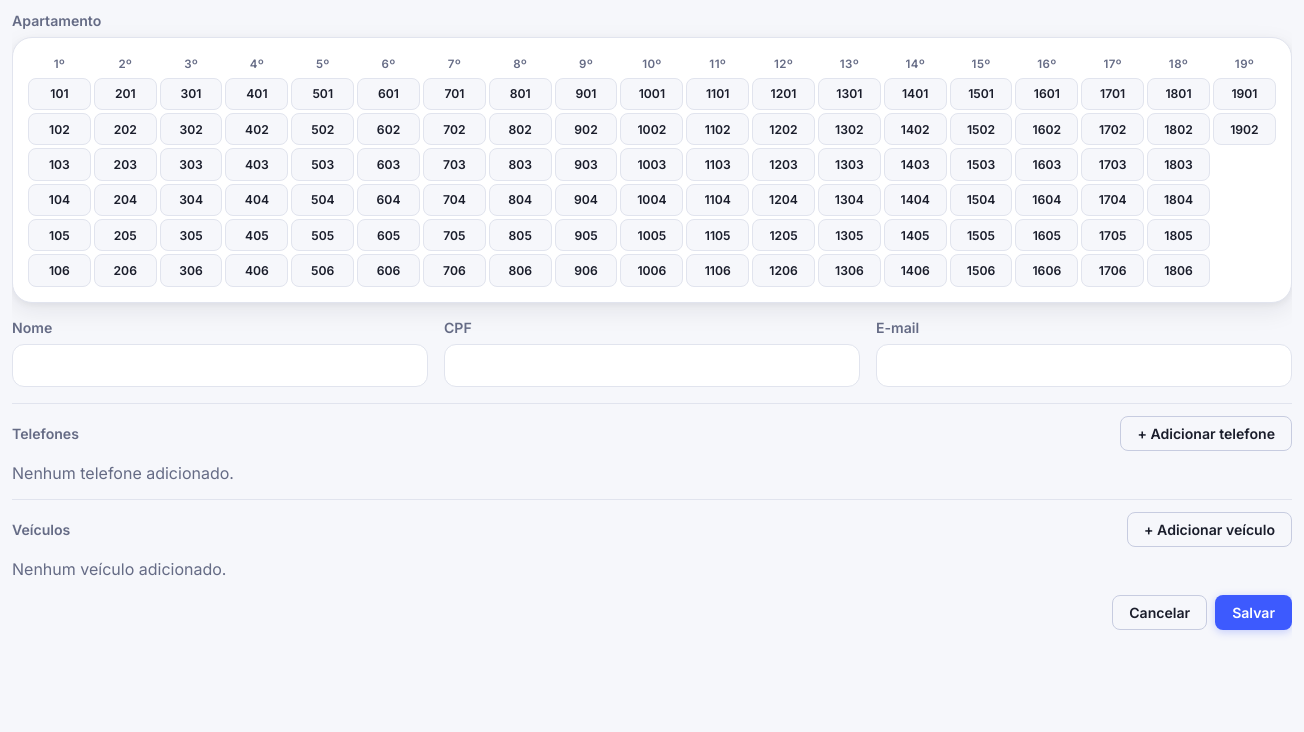
Test: ResidentForm › shows an error and no É proprietário switch when the selected unit has no owner
Click the button "101" at (59, 94), box [28,78,91,110]
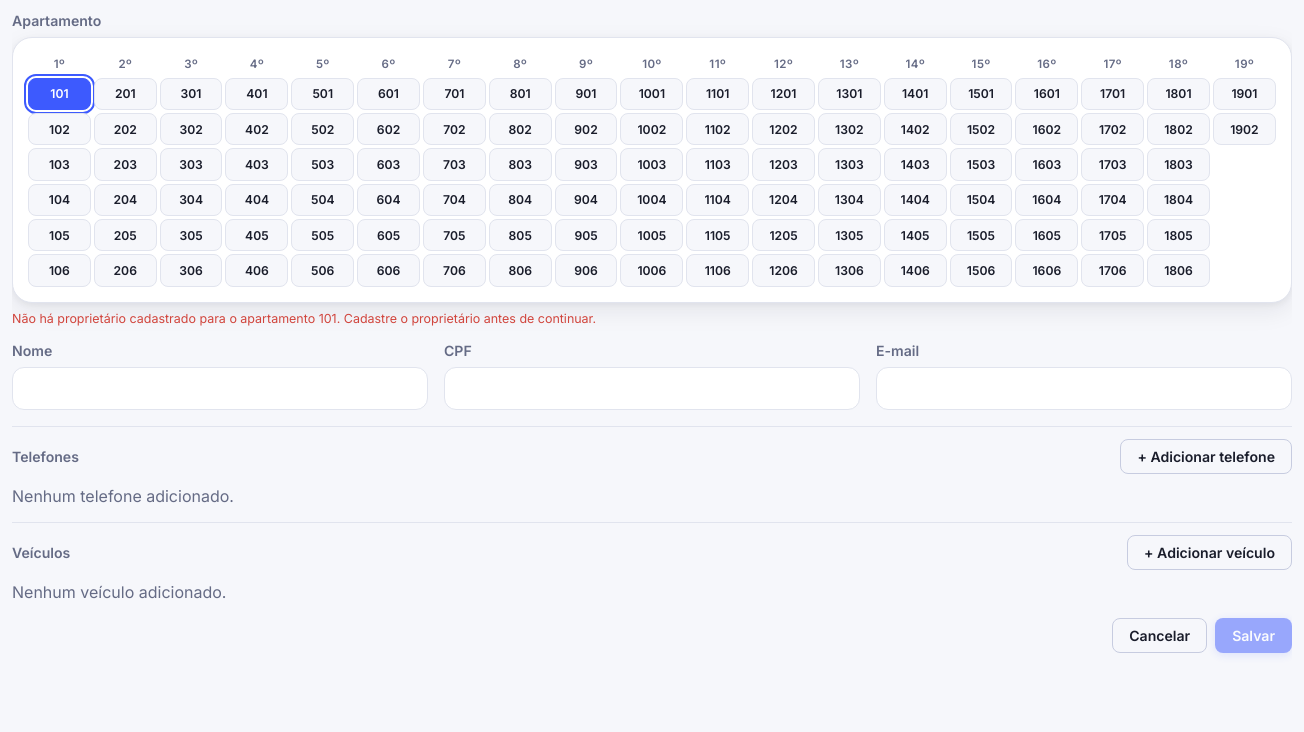
Check: the text "Não há proprietário cadastrado" is shown, box [12,311,319,326]
Check: the button "Salvar" is disabled, box [1215,618,1292,653]
